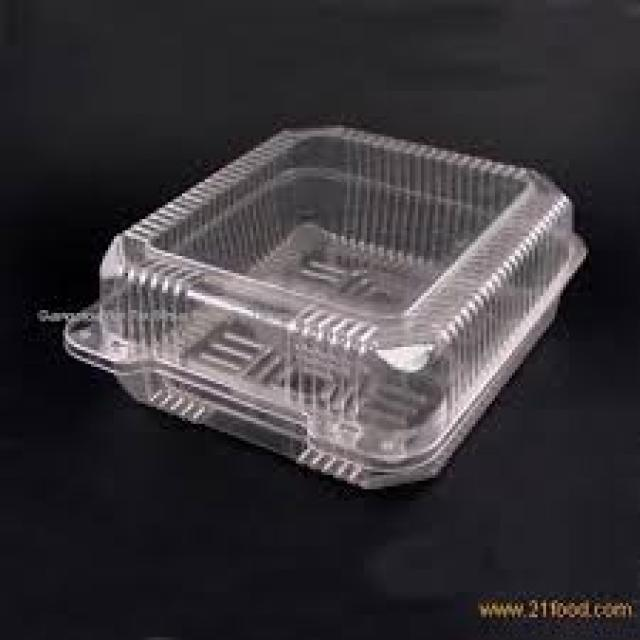disposable: (67, 103, 607, 500)
